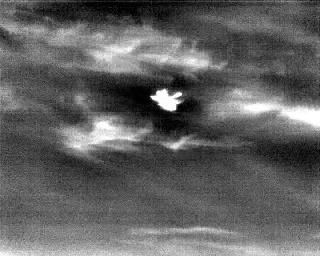HELICOPTER: (148, 84, 186, 116)
